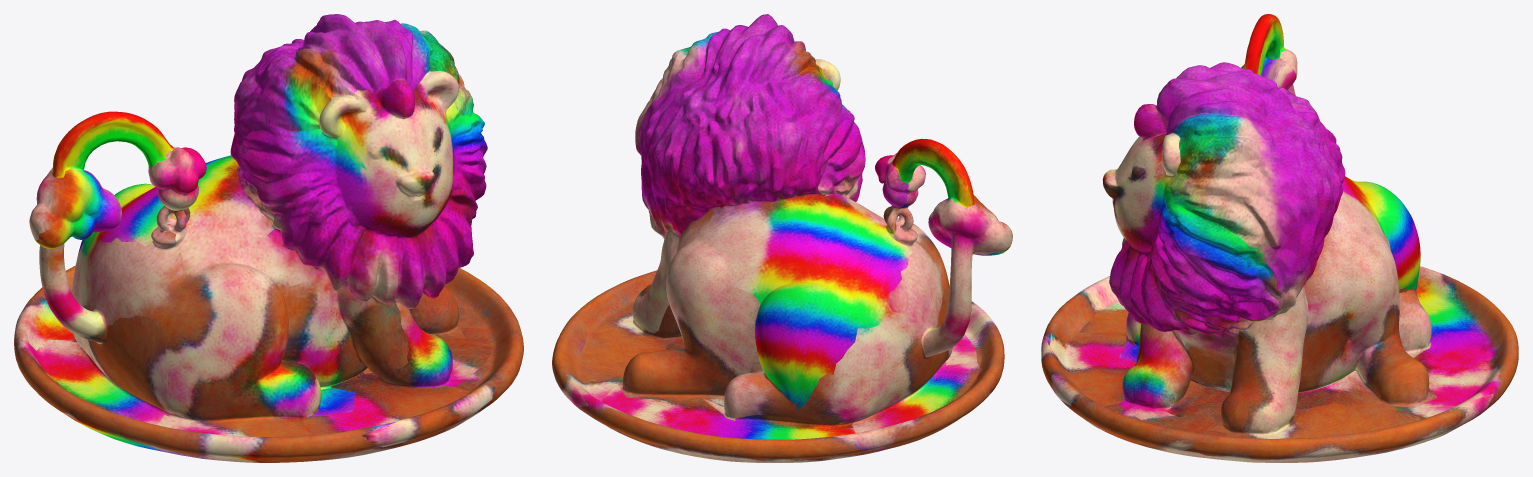
File: paint-it.glb
3 views of the same model, side by side, from view 1: azimuth 30°, elevation 25°; view 2: azimuth 150°, elevation 25°; view 3: azimuth 270°, elevation 25° (orthographic). The views are drawn at different scales.
Parts seen in each view (by area): view 1: mesh; view 2: mesh; view 3: mesh.
Boxes of the visible parts, left/top/right/bottom form: mesh: left=14, top=14, right=523, bottom=462; mesh: left=552, top=14, right=1012, bottom=462; mesh: left=1041, top=14, right=1518, bottom=462.
Bounding box in the file's own units: 2 × 1.43 × 1.9.
1 material, 1 textured.
